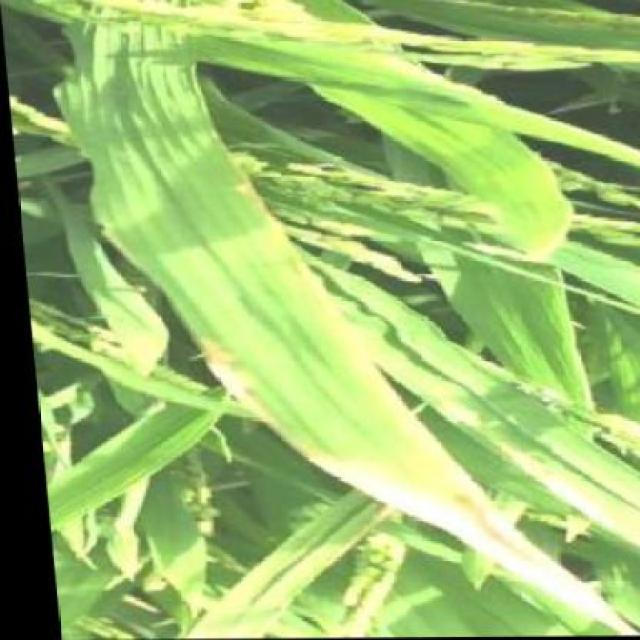Brown_Spot: (197, 178, 425, 513)
